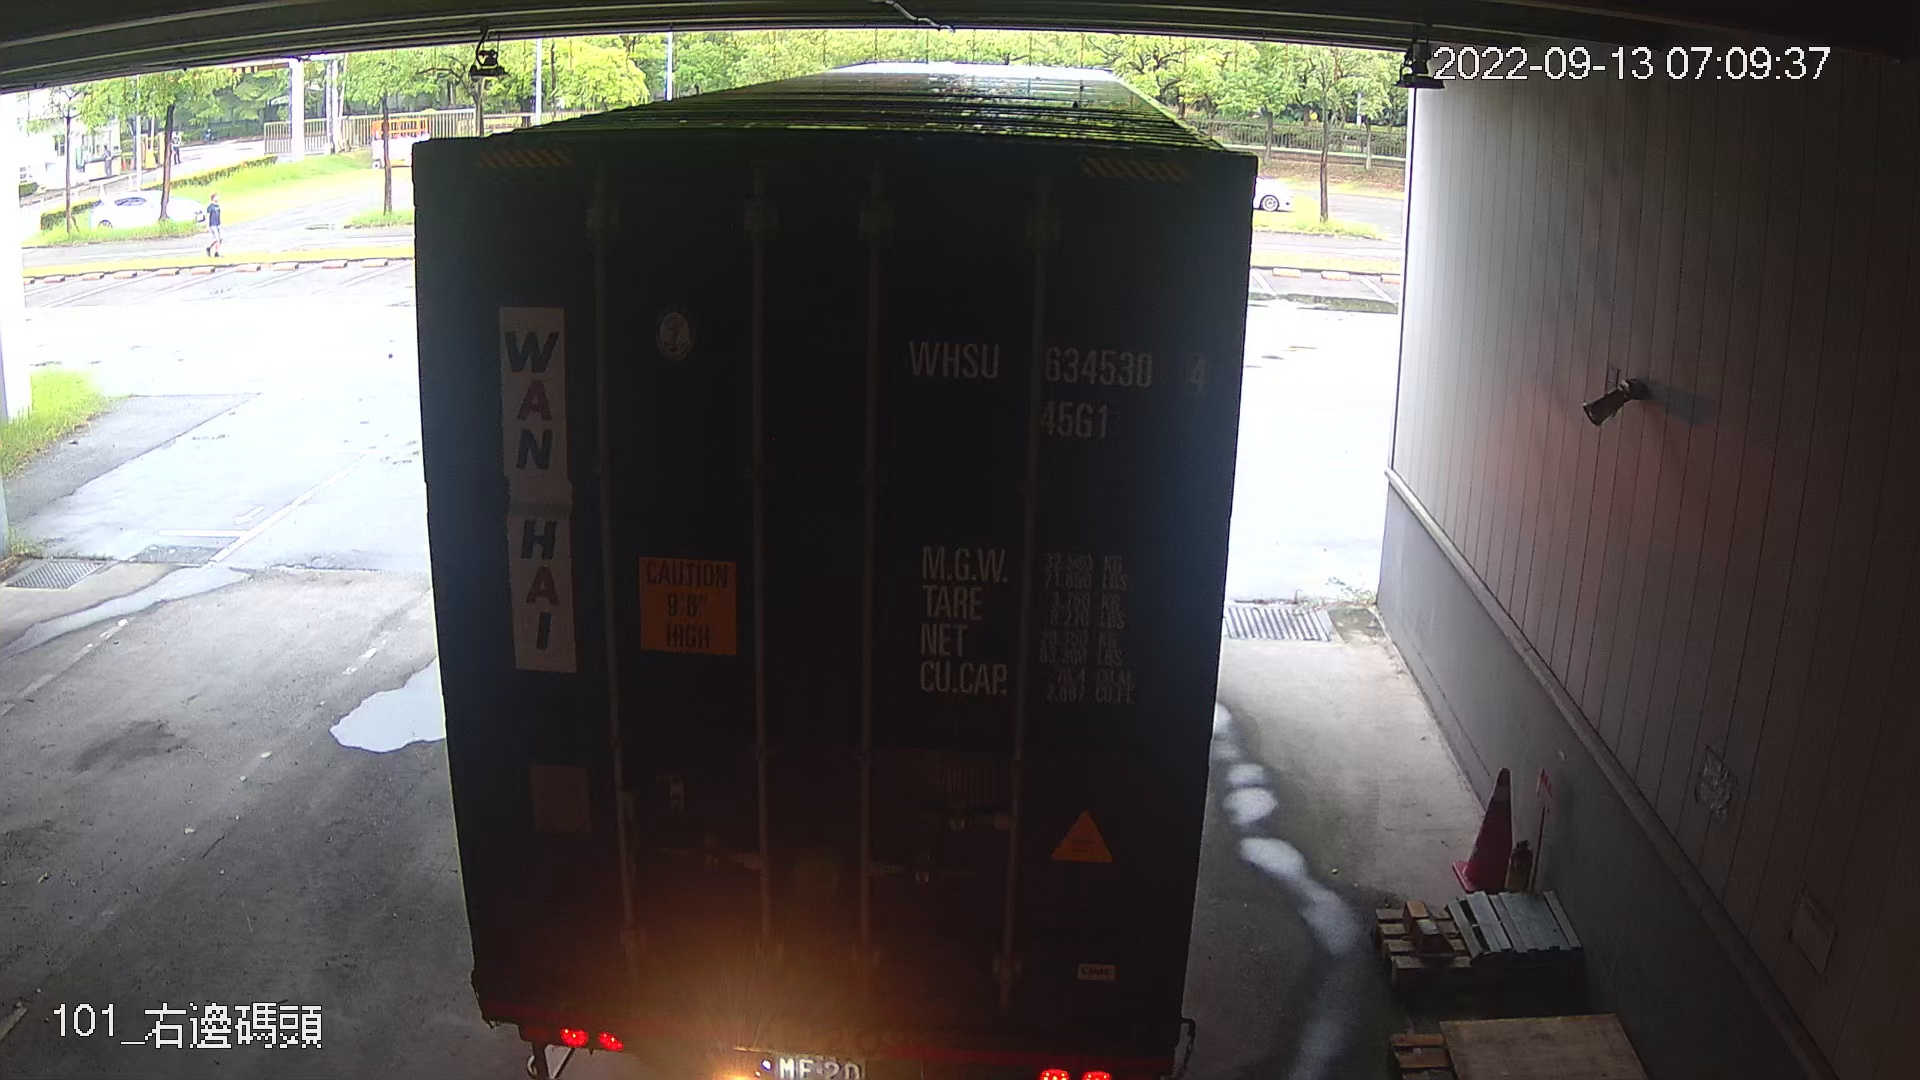container: (897, 320, 1222, 444)
